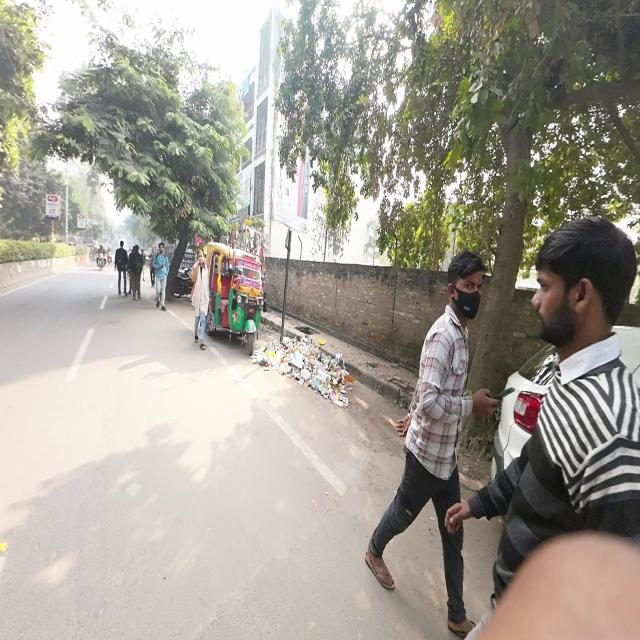Garbage: (307, 351, 347, 402), (257, 336, 308, 374)
